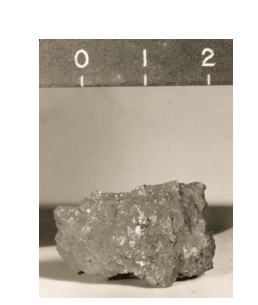Breccia: (47, 165, 223, 288)
